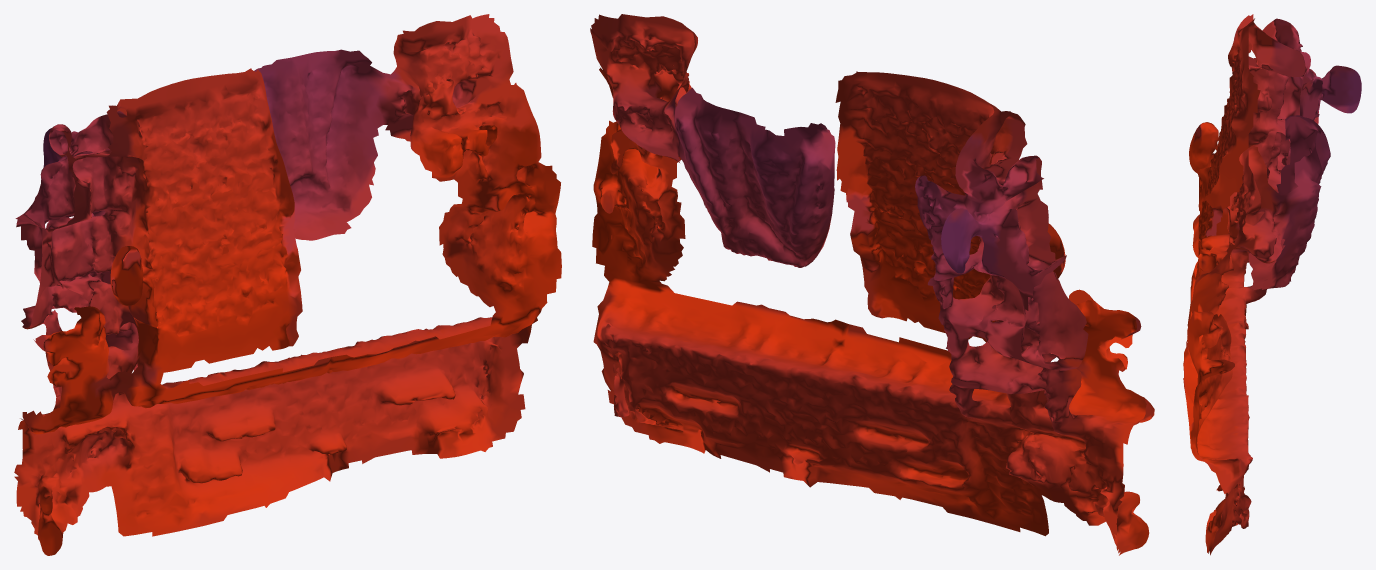
3 renders of one model, left to right at view 1: azimuth 30°, elevation 25°; view 2: azimuth 150°, elevation 25°; view 3: azimuth 270°, elevation 25°, orthographic. The views are drawn at different scales.
Bounding box in the file's own units: 3.38 × 2.6 × 1.08.
